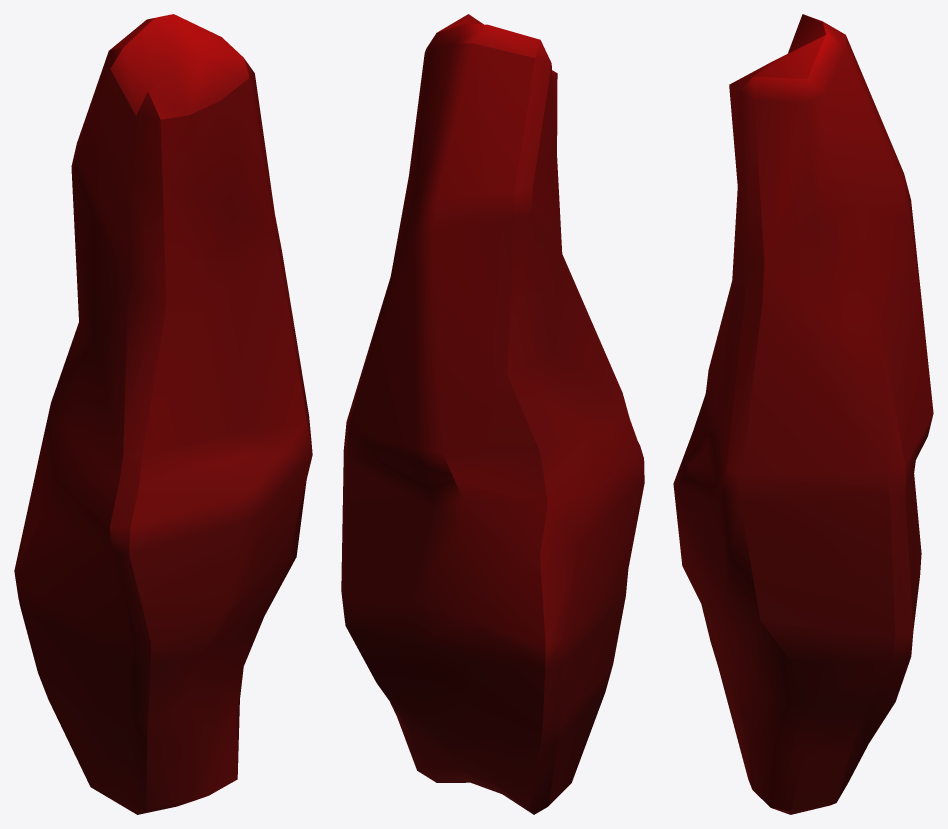
Rendered from geology-carvedstone-monolith_v4.fbx.
The picture shows the model from 3 angles, left to right: view 1: azimuth 30°, elevation 25°; view 2: azimuth 150°, elevation 25°; view 3: azimuth 270°, elevation 25°; orthographic projection.
Visible parts, largest first — view 1: Monolith_v4; view 2: Monolith_v4; view 3: Monolith_v4.
Part boxes in pixels (box(x1,y1,x2,y2)): Monolith_v4: box(14, 14, 312, 814); Monolith_v4: box(341, 14, 644, 814); Monolith_v4: box(673, 14, 933, 814).
Size of the model in its own units: 2.13 by 7.07 by 2.16.
